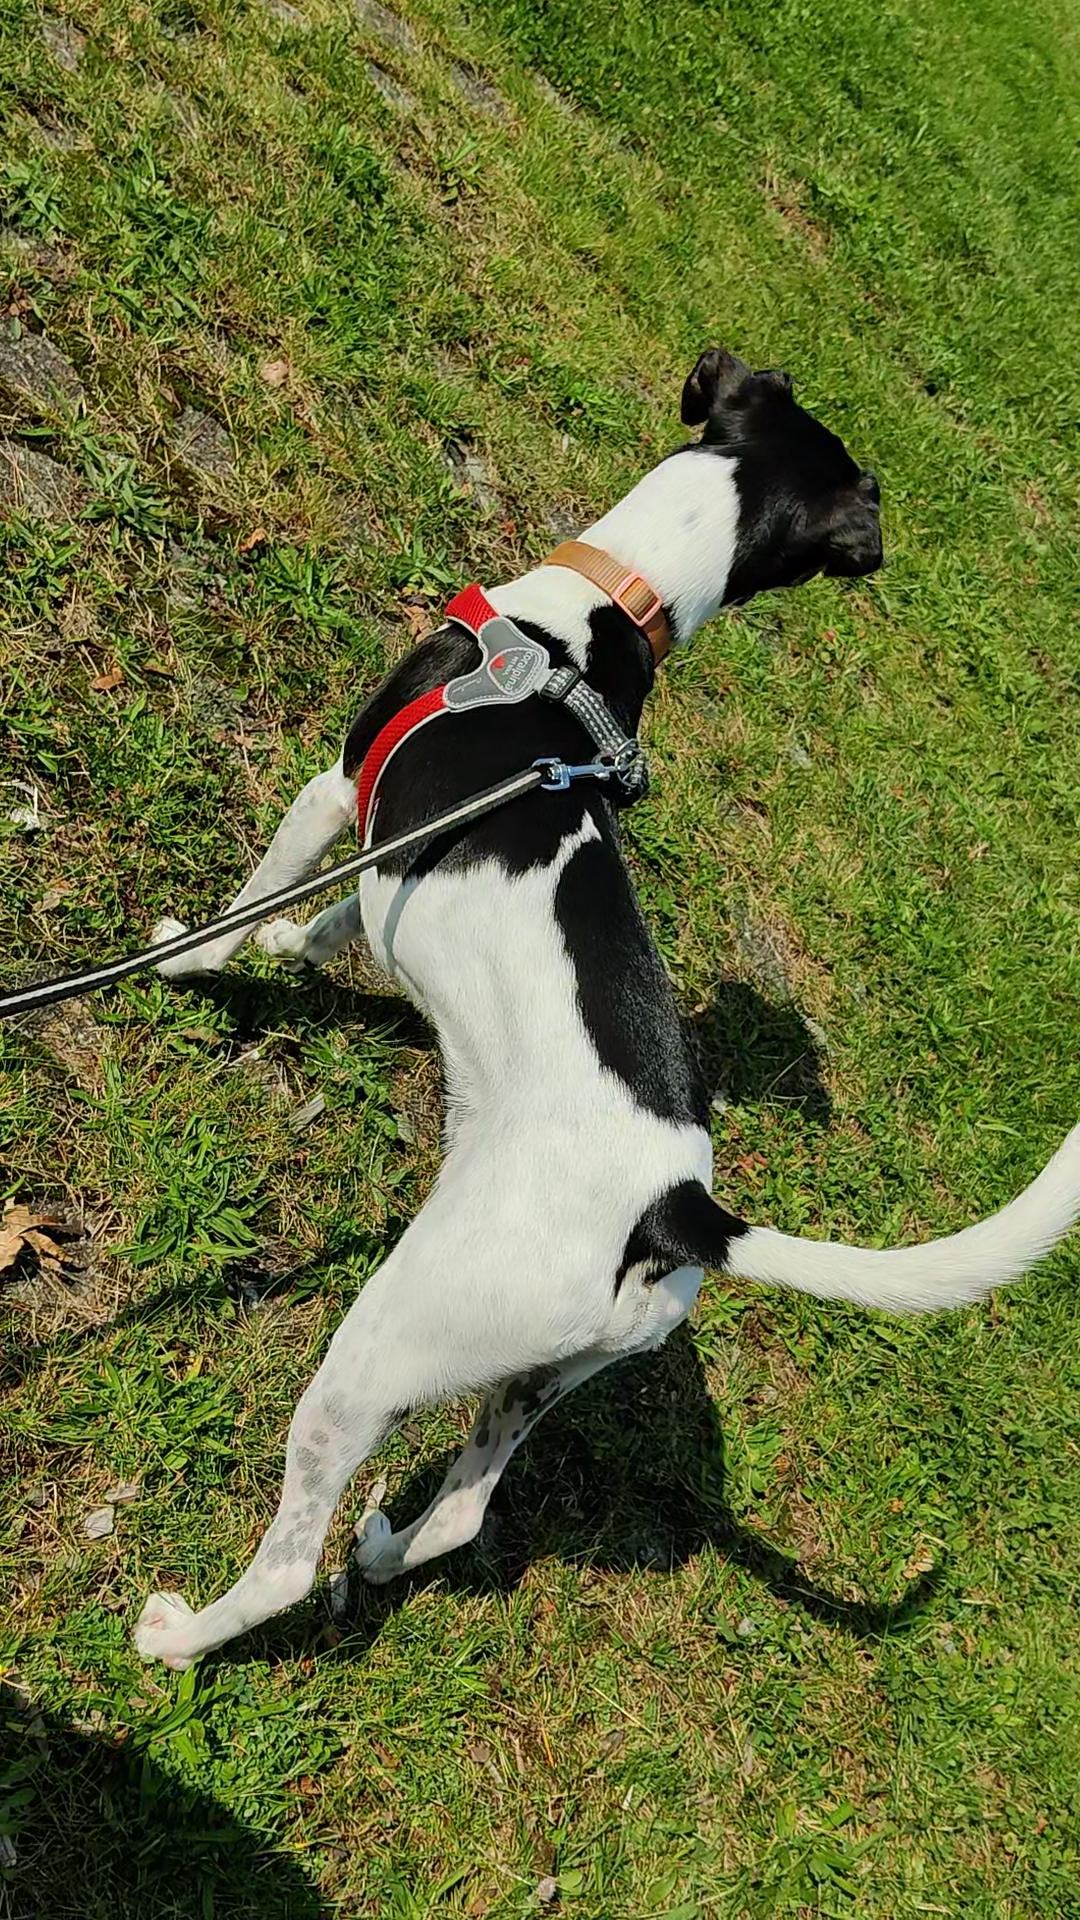Dog: (127, 336, 1079, 1683)
